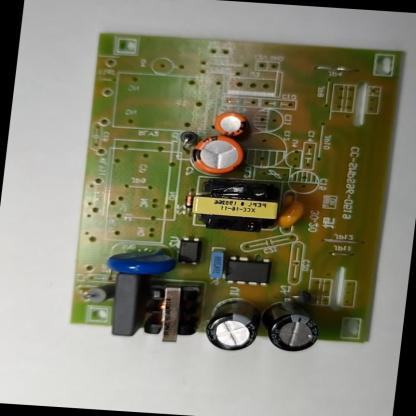Cap1: (183, 131, 248, 178)
Cap2: (209, 107, 254, 141)
Cap3: (199, 293, 266, 355)
Cap4: (257, 293, 324, 356)
MOSFET: (219, 253, 277, 288)
Mov: (102, 240, 184, 280)
Resistor: (82, 278, 118, 307)
Transformer: (185, 173, 286, 237), (136, 276, 207, 346)
